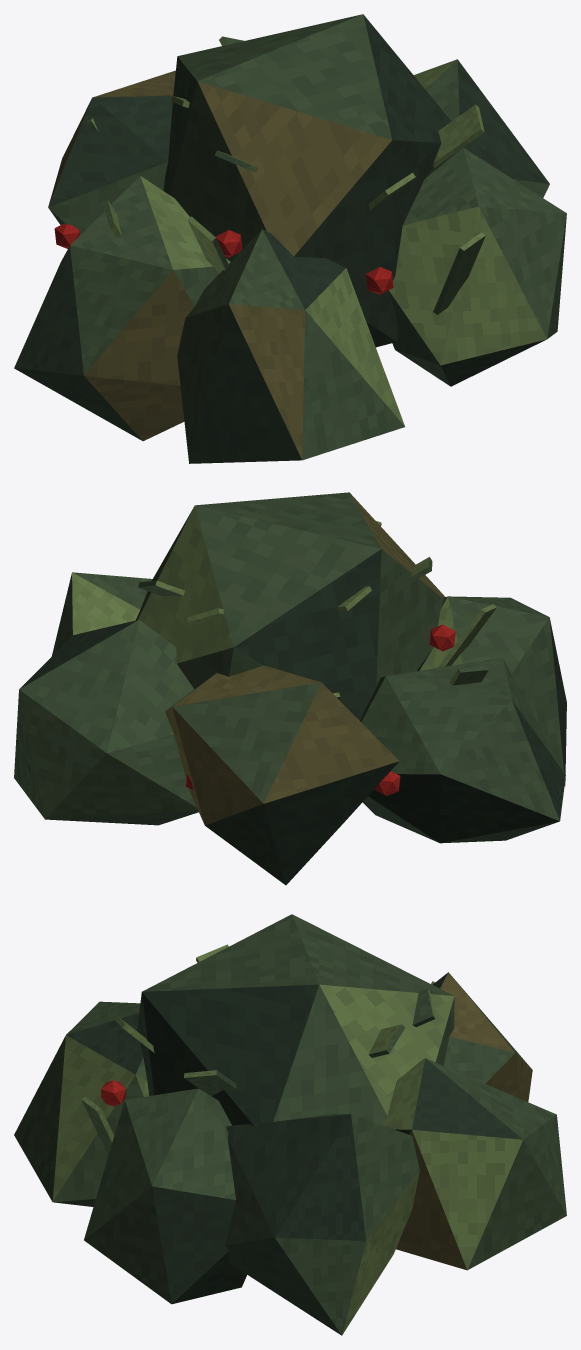
The model's file is bush_short.glb.
3 views of the same model, one above another, from view 1: azimuth 30°, elevation 25°; view 2: azimuth 150°, elevation 25°; view 3: azimuth 270°, elevation 25° (orthographic). The views are drawn at different scales.
Visible parts, largest first — view 1: bush_short; view 2: bush_short; view 3: bush_short.
Boxes of the visible parts, box(x1,y1,x2,y2) form: bush_short: box(14, 14, 566, 463); bush_short: box(14, 492, 566, 885); bush_short: box(14, 914, 566, 1335).
Bounding box in the file's own units: 1.1 × 0.6843 × 1.07.
Materials: 1 (1 with a texture image).
